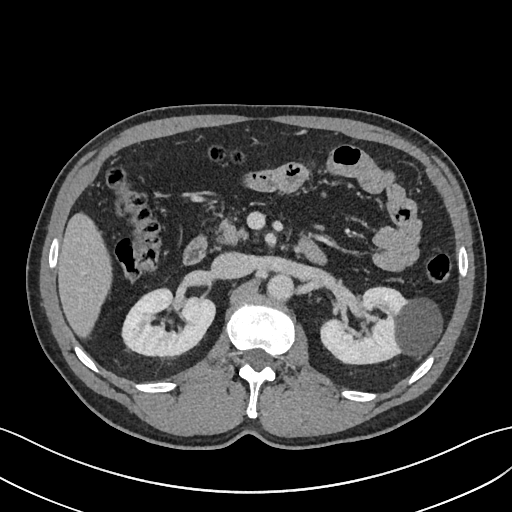Lesion: (392, 294, 446, 360)
